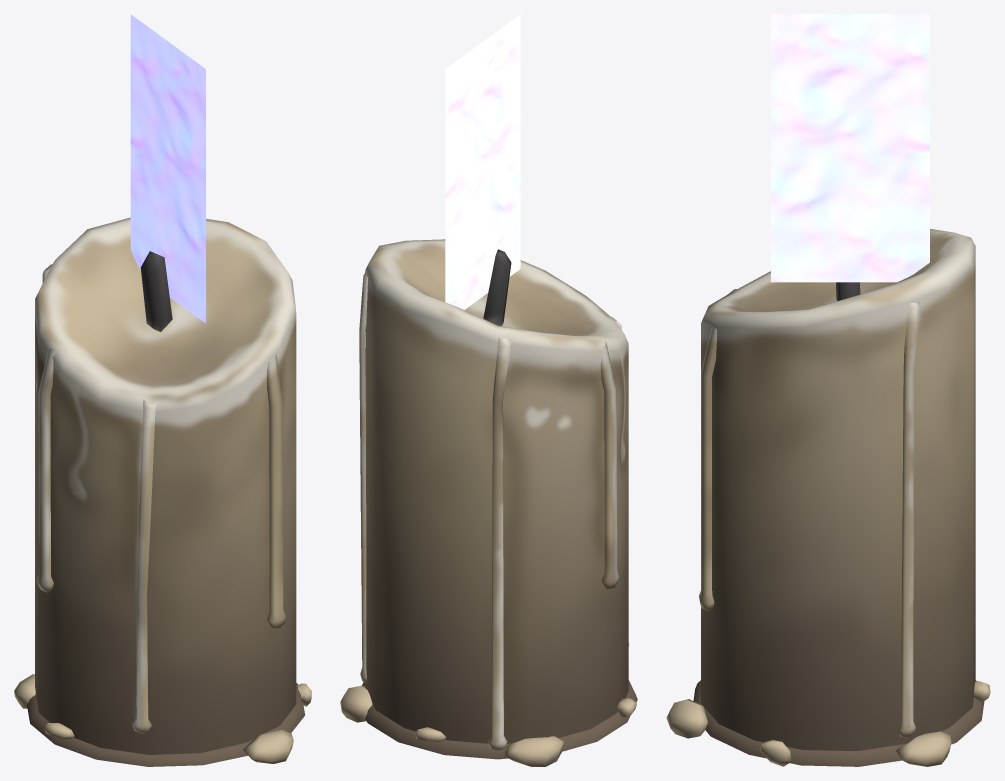
Rendered from SM_Candle_02.fbx.
3 renders of one model, left to right at view 1: azimuth 30°, elevation 25°; view 2: azimuth 150°, elevation 25°; view 3: azimuth 270°, elevation 25°, orthographic. The views are drawn at different scales.
Parts seen in each view (by area): view 1: SM_Candle_02_LOD0; view 2: SM_Candle_02_LOD0; view 3: SM_Candle_02_LOD0.
Part boxes in pixels (x1,y1,x2,y2): SM_Candle_02_LOD0: [14, 14, 311, 766]; SM_Candle_02_LOD0: [340, 14, 637, 766]; SM_Candle_02_LOD0: [666, 14, 990, 766].
Bounding box in the file's own units: 7.31 × 7.83 × 18.71.
Materials: 2 (1 with a texture image).
